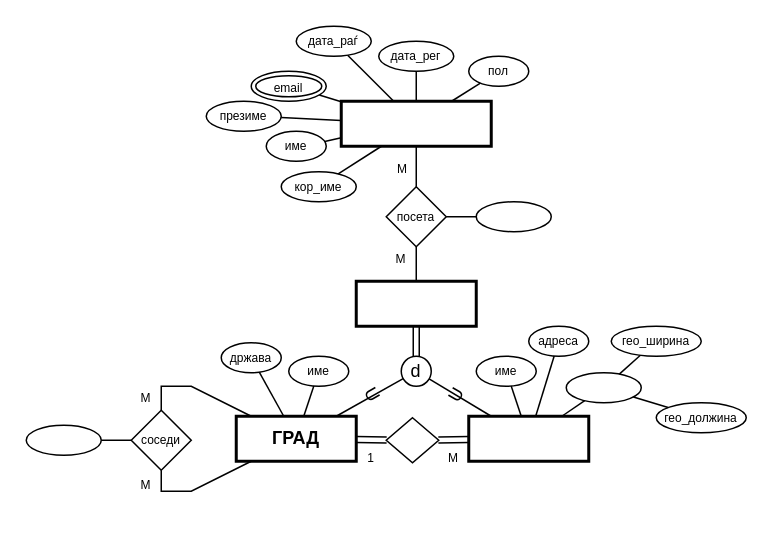
Some shapes in this 773 by 534 pixel diagram are drawn without their labels. The centre of each missing label's shape, as x and y in pixels:
датум: point 513,216
има: point 412,439
КОРИСНИК: point 415,123
локација: point 603,387
МЕСТО: point 415,303
ОБЈЕКТ: point 528,438
растојание: point 63,439
